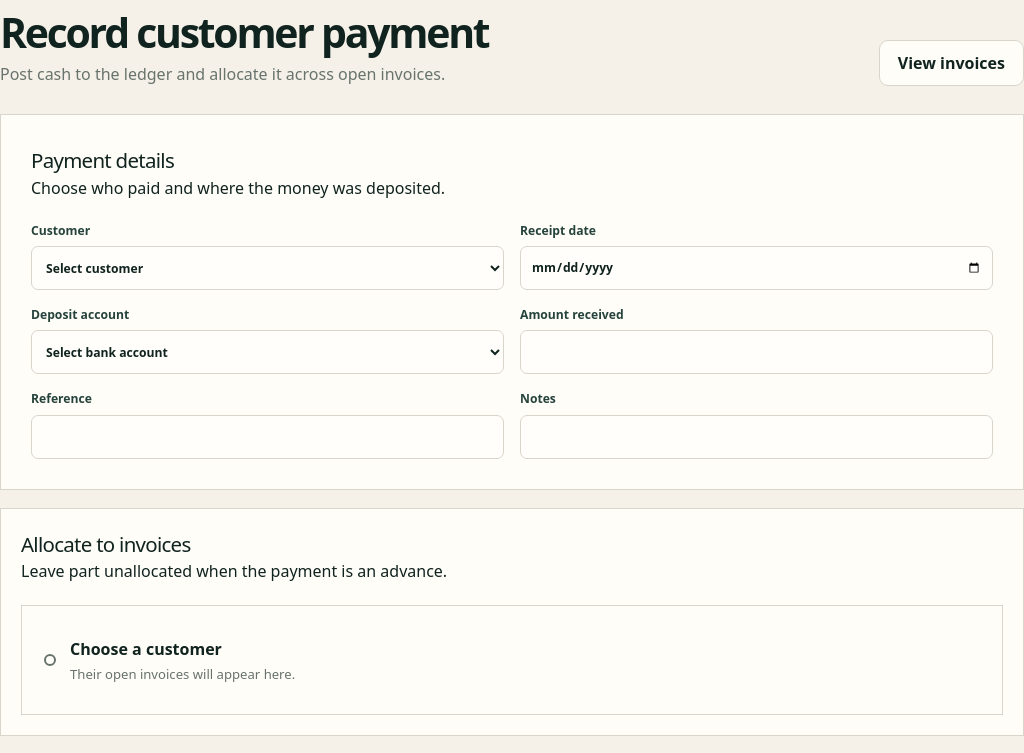
Day 4 receipt allocation › allocates a customer receipt and shows the unallocated remainder and balanced journal
Select "CUS-001 - Himalayan Trek Supplies" in the dropdown labelled "Customer": (268, 268) 31,246 -> 504,290
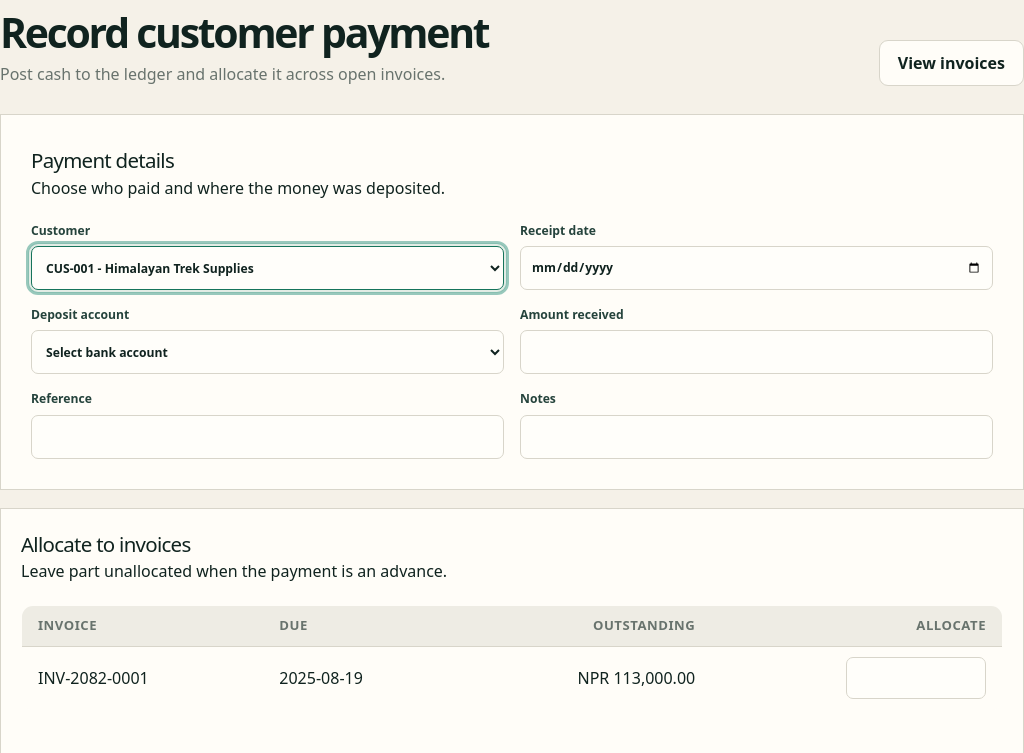
Select "1010 - Nabil Bank" in the dropdown labelled "Deposit account": (268, 352) 31,330 -> 504,374
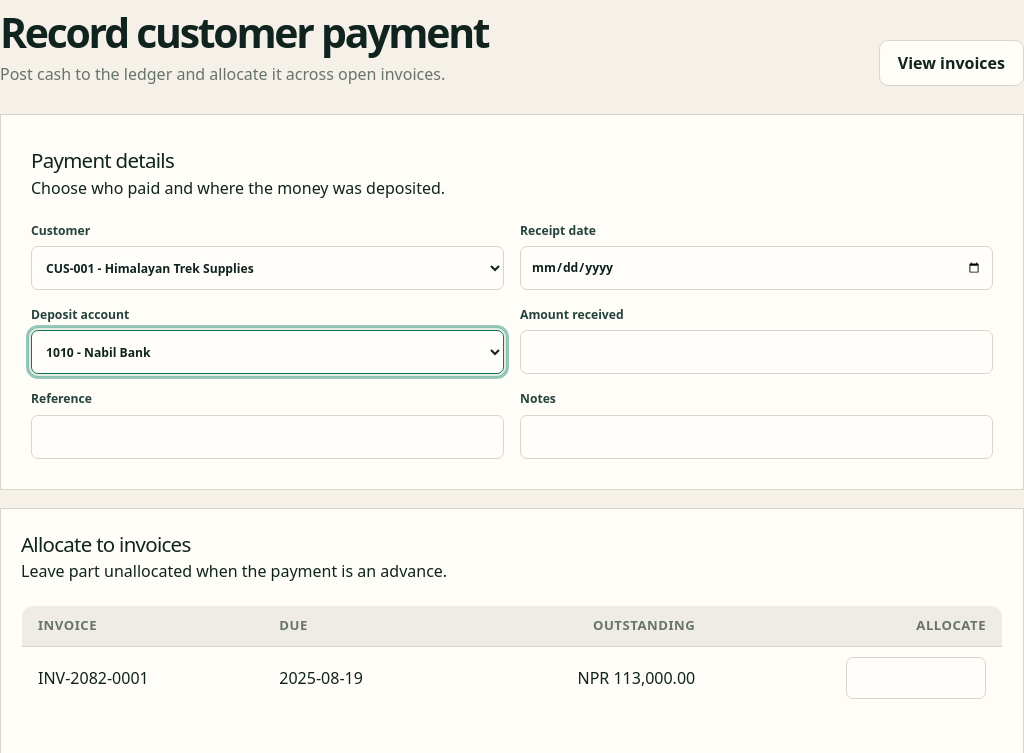
In the date field labelled "Receipt date": (756, 268) 520,246 -> 993,290, type "2025-08-20"
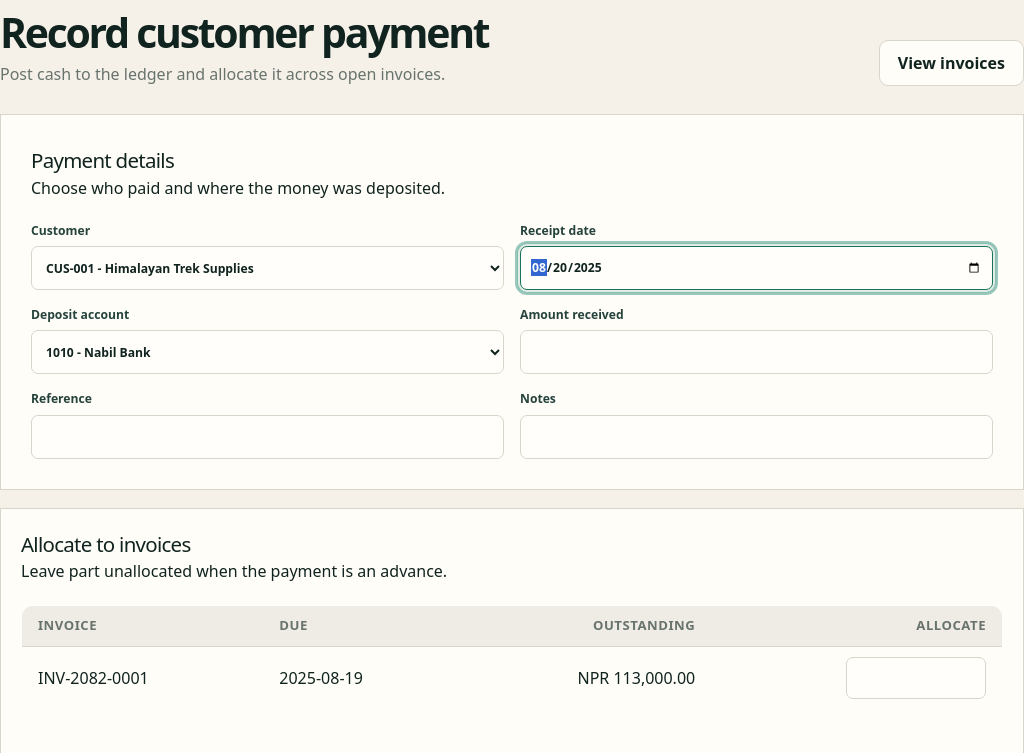
In the field labelled "Amount received": (756, 352) 520,330 -> 993,374, type "60000.00"
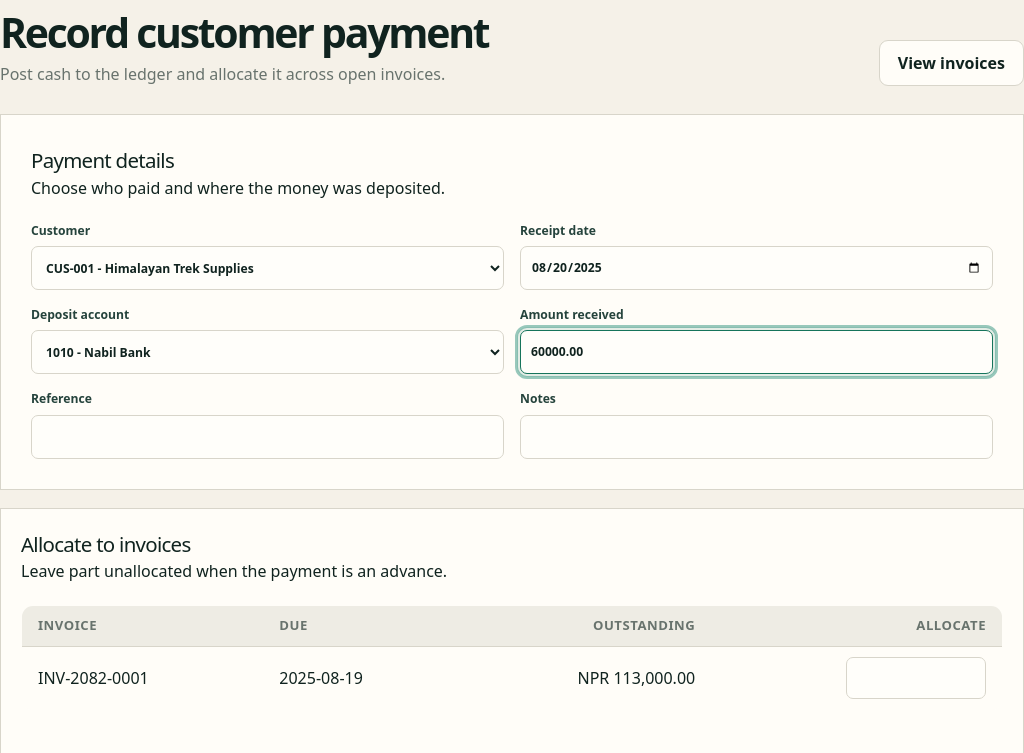
In the field named "Allocate to INV-2082-0001": (916, 678) 846,657 -> 986,699, type "50000.00"
(page scrolled)
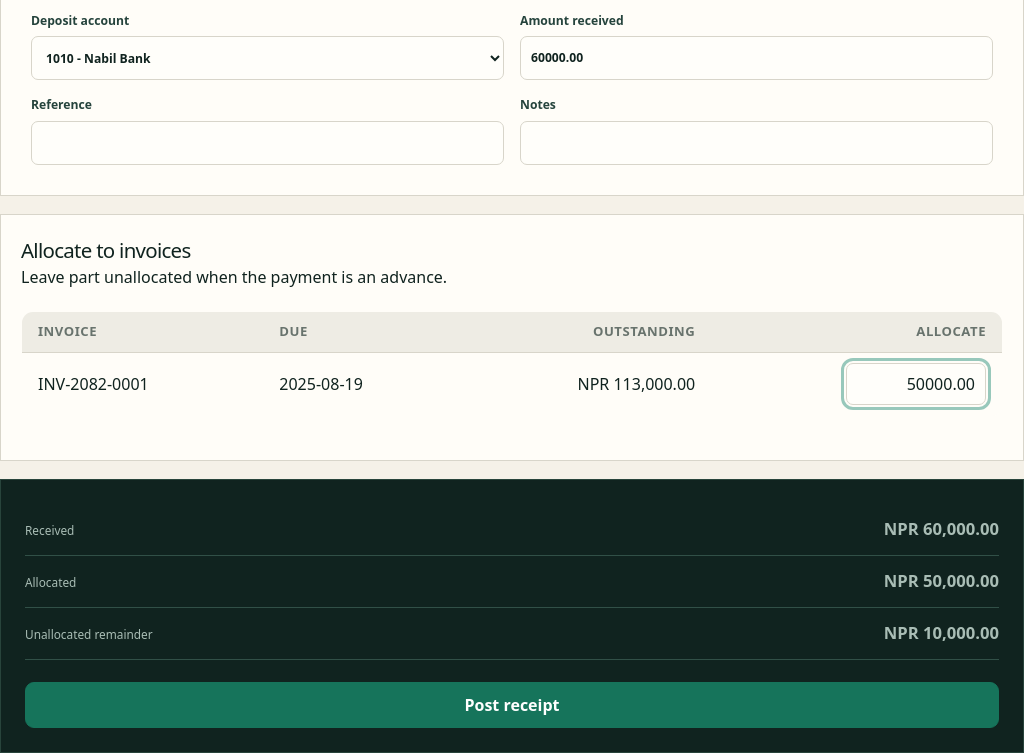
Result: the text "NPR 10,000.00" is shown at 884,621 -> 999,646
Click the button "Post receipt": (512, 705) 25,682 -> 999,728
(page scrolled)
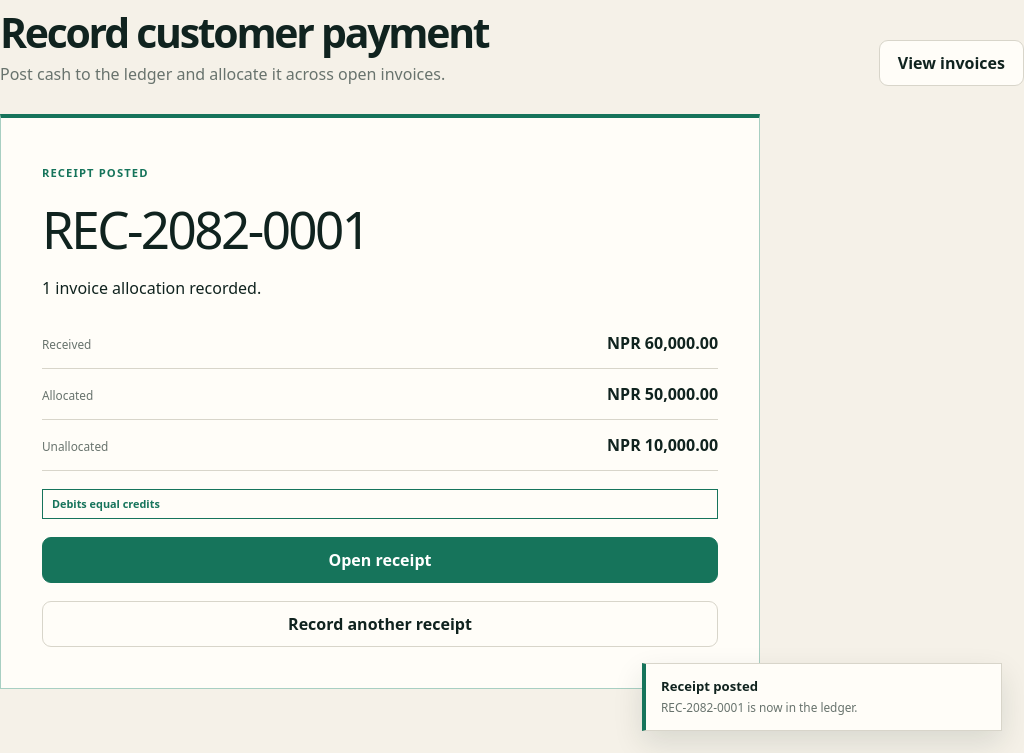
Result: the heading "REC-2082-0001" is shown at 42,194 -> 369,264
Result: the text "Debits equal credits" is shown at 42,489 -> 718,519
